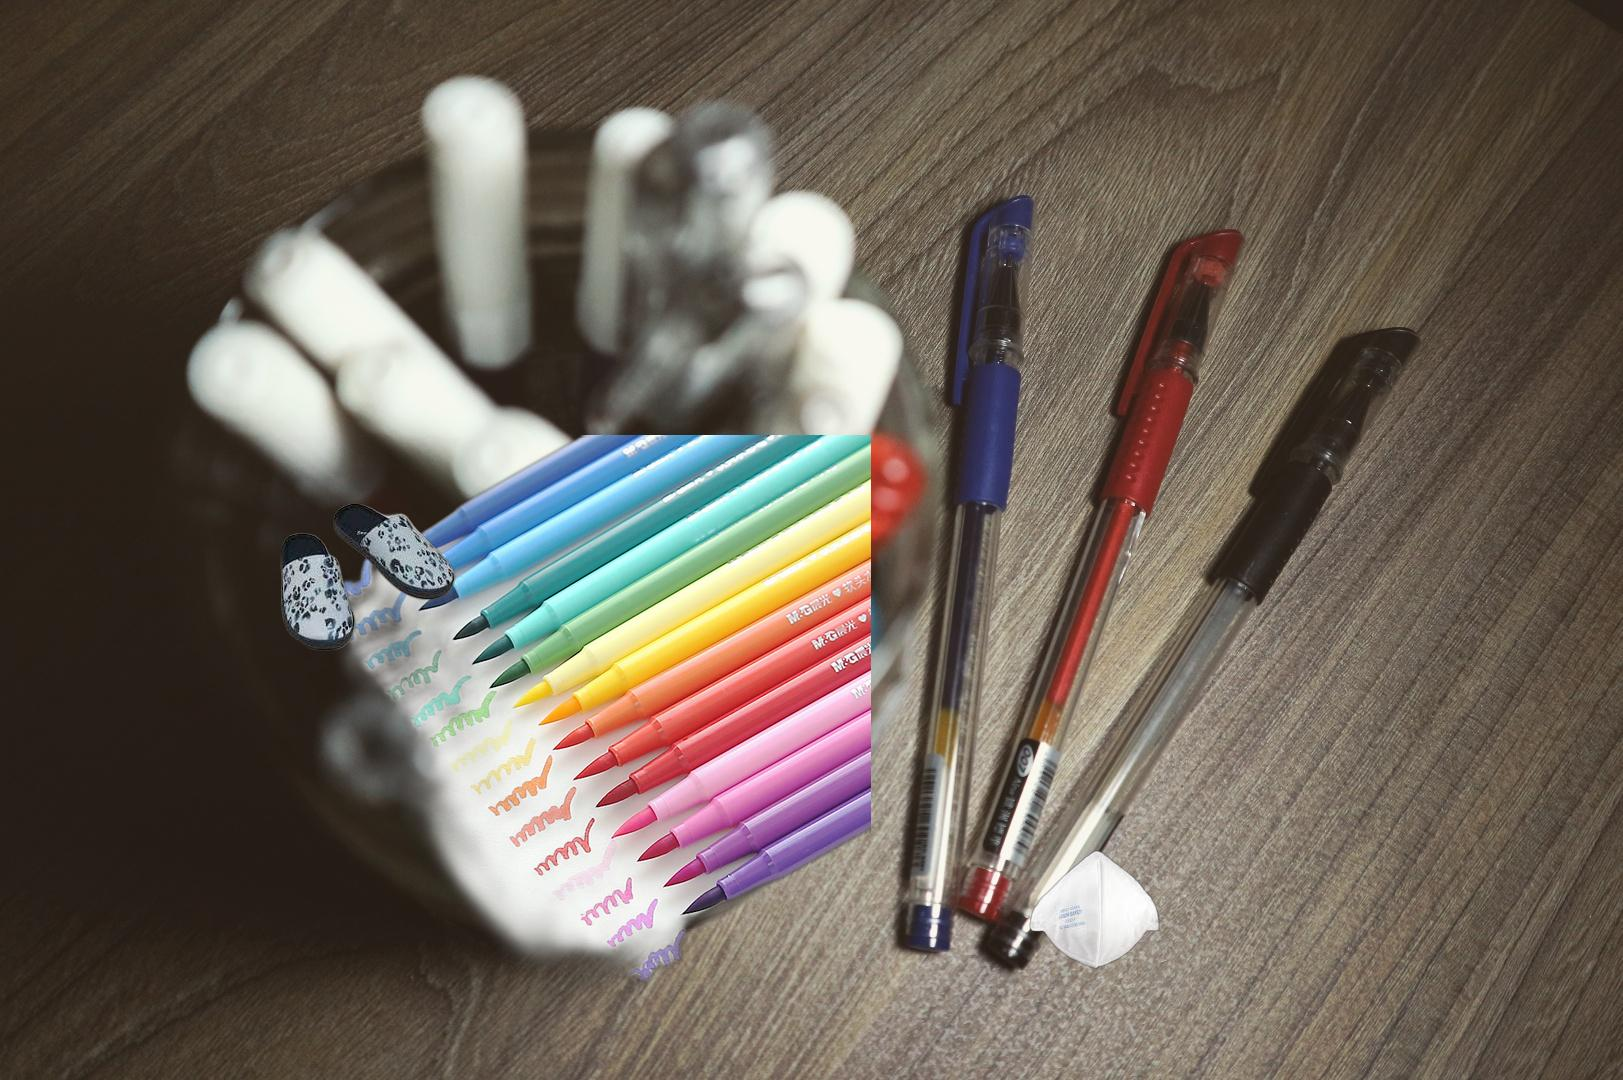penholder: (271, 435, 871, 1035)
shoes: (275, 501, 459, 653)
trash: (1027, 849, 1162, 972)
